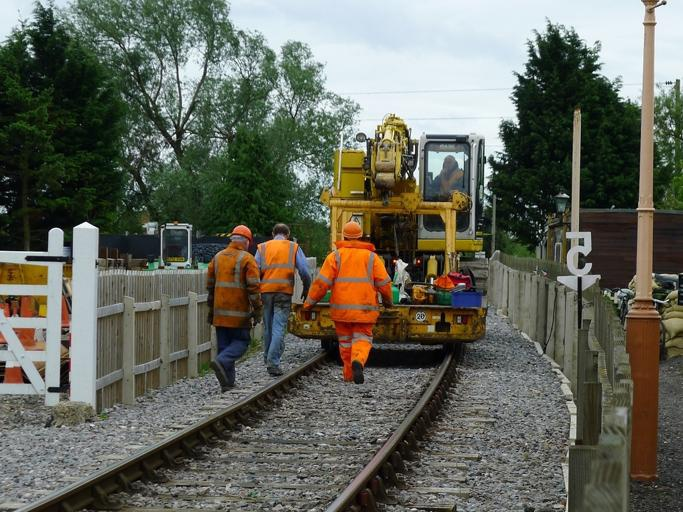non-vehicle: (649, 294, 669, 358), (611, 286, 633, 324)
